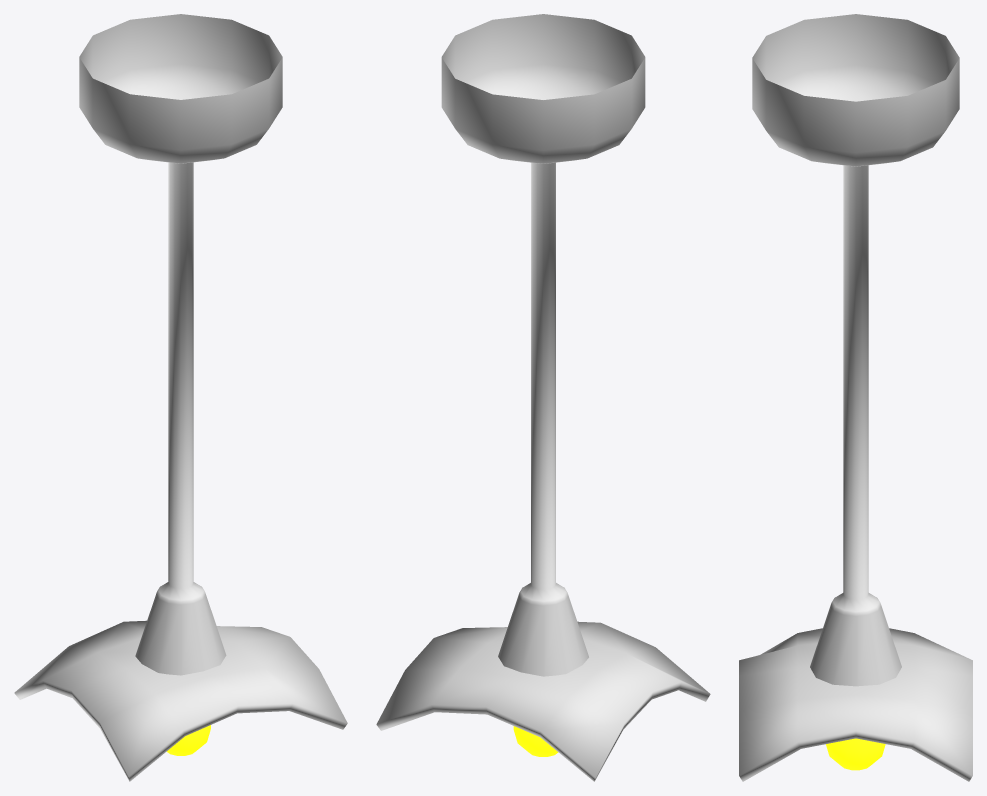
File: PortaLampara.fbx
The picture shows the model from 3 angles, left to right: view 1: azimuth 30°, elevation 25°; view 2: azimuth 150°, elevation 25°; view 3: azimuth 270°, elevation 25°; orthographic projection.
Parts seen in each view (by area): view 1: PortaLampara; view 2: PortaLampara; view 3: PortaLampara.
Part boxes in pixels (<box>): PortaLampara: <box>14,14,347,781</box>; PortaLampara: <box>376,14,710,781</box>; PortaLampara: <box>739,14,972,781</box>.
Size of the model in its own units: 0.4968 by 1.51 by 0.4503.
